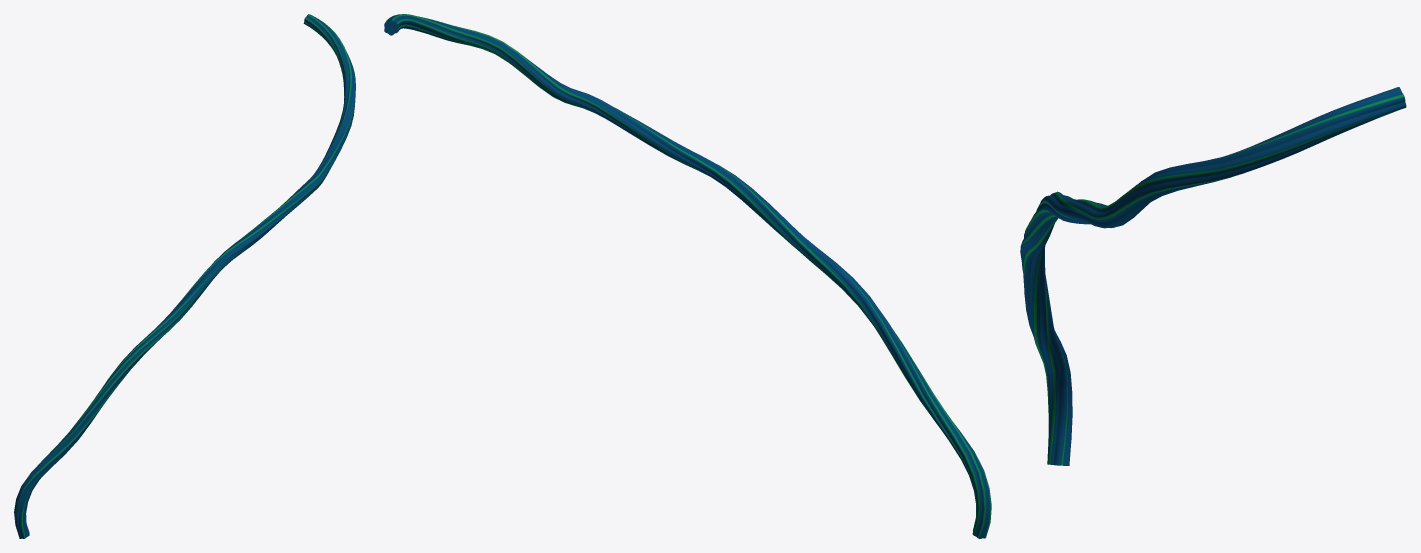
Rendered from cables 5.FBX.
The picture shows the model from 3 angles, left to right: view 1: azimuth 30°, elevation 25°; view 2: azimuth 150°, elevation 25°; view 3: azimuth 270°, elevation 25°; orthographic projection. The views are drawn at different scales.
Parts seen in each view (by area): view 1: Nouveau cables 5; view 2: Nouveau cables 5; view 3: Nouveau cables 5.
Part boxes in pixels (x1=…): Nouveau cables 5: x1=14, y1=14, x2=355, y2=538; Nouveau cables 5: x1=384, y1=14, x2=991, y2=538; Nouveau cables 5: x1=1020, y1=87, x2=1406, y2=465.
Bounding box in the file's own units: 631 × 572 × 269.
